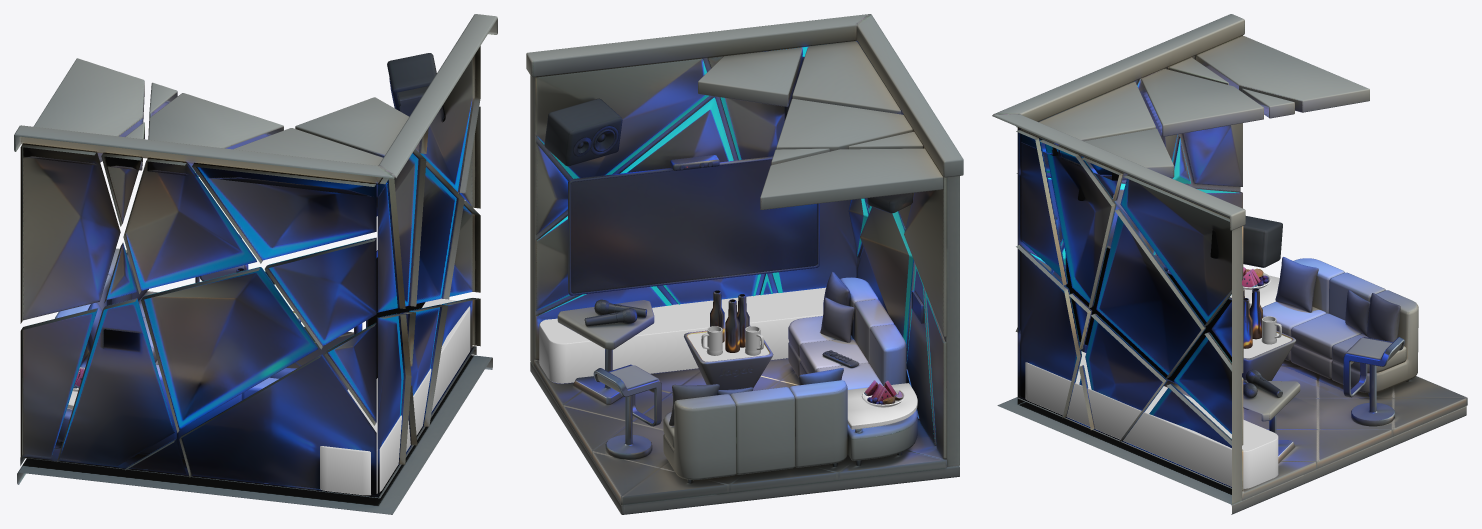
The model's file is KTV.fbx.
3 views of the same model, side by side, from view 1: azimuth 30°, elevation 25°; view 2: azimuth 150°, elevation 25°; view 3: azimuth 270°, elevation 25° (orthographic). The views are drawn at different scales.
Parts seen in each view (by area): view 1: qiang03, qiang04, boli-zhuo, shafa05, dianshi01, lanse02; view 2: qiang04, qiang03, dianshi01, shafa05, zhuozi06, boli-zhuo, lanse02, boli-zhuomian, pijiubei, boli; view 3: qiang04, qiang03, shafa05, boli-zhuo, zhuozi06, dianshi01, lanse02.
Part boxes in pixels (<box>): qiang03: <box>20,46,480,495</box>; qiang04: <box>14,14,497,514</box>; boli-zhuo: <box>320,299,470,495</box>; shafa05: <box>55,248,296,458</box>; dianshi01: <box>104,53,445,378</box>; lanse02: <box>124,164,470,349</box>; qiang04: <box>526,14,963,514</box>; qiang03: <box>535,41,946,458</box>; dianshi01: <box>544,77,923,323</box>; shafa05: <box>663,271,917,483</box>; zhuozi06: <box>557,290,773,459</box>; boli-zhuo: <box>539,287,825,383</box>; lanse02: <box>537,47,940,438</box>; boli-zhuomian: <box>847,383,917,429</box>; pijiubei: <box>701,326,763,355</box>; boli: <box>687,330,769,361</box>; qiang04: <box>992,14,1467,514</box>; qiang03: <box>1015,35,1243,491</box>; shafa05: <box>1084,257,1418,396</box>; boli-zhuo: <box>1025,351,1278,488</box>; zhuozi06: <box>1242,288,1404,462</box>; dianshi01: <box>1065,173,1282,383</box>; lanse02: <box>1022,81,1242,438</box>.
Size of the model in its own units: 338 by 235 by 336.
